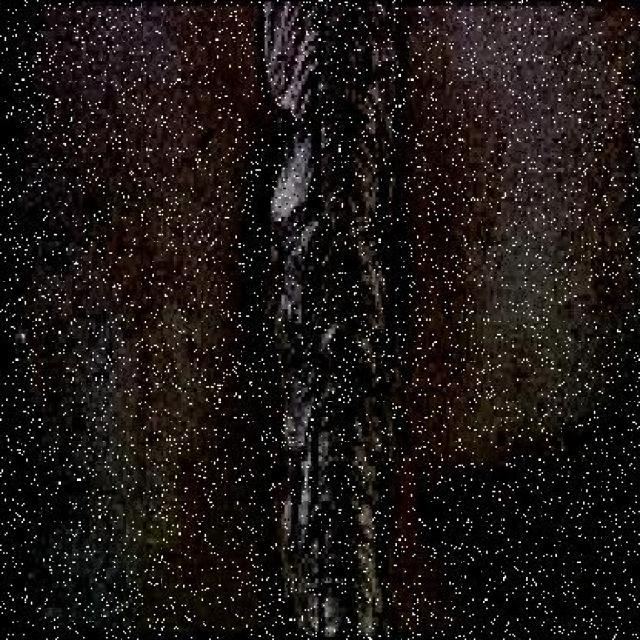Crack: (309, 0, 351, 631)
